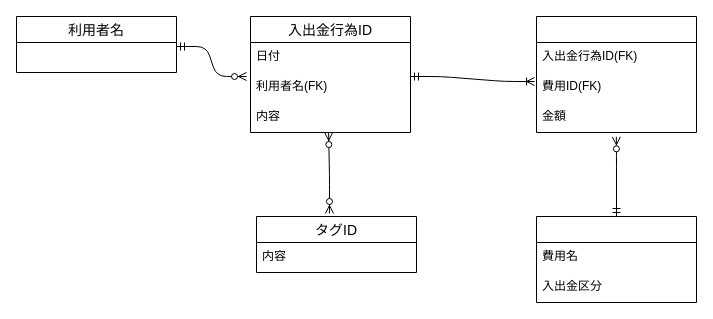
This 713x319 diagram has some shape labels left out. Each missing label, with the box of its shape:
入出金明細ID: (536, 16, 696, 132)
費用: (536, 216, 696, 302)
